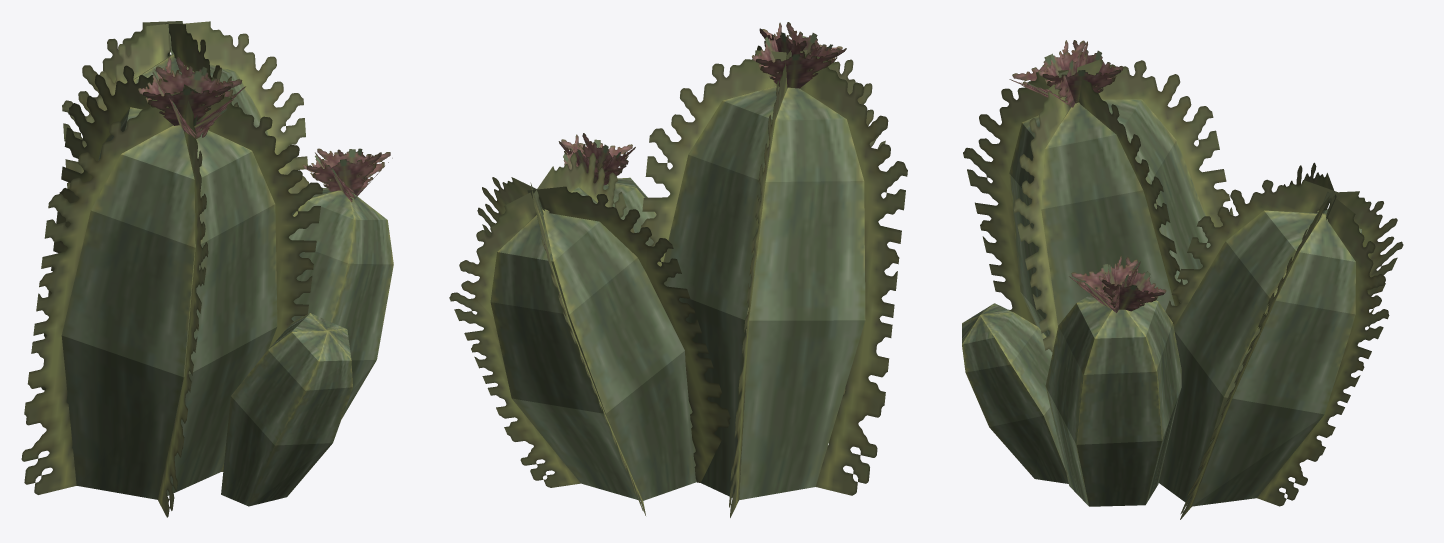
The model's file is C2SNCTSA.obj.
3 views of the same model, side by side, from view 1: azimuth 30°, elevation 25°; view 2: azimuth 150°, elevation 25°; view 3: azimuth 270°, elevation 25° (orthographic). The views are drawn at different scales.
Visible parts, largest first — view 1: Node 0; view 2: Node 0; view 3: Node 0.
Boxes of the visible parts, x1,y1,x2,y2 form: Node 0: (21,21,393,517); Node 0: (449,22,907,517); Node 0: (962,40,1403,519).
Bounding box in the file's own units: 2.09 × 2.43 × 2.66.
Materials: 1 (1 with a texture image).
